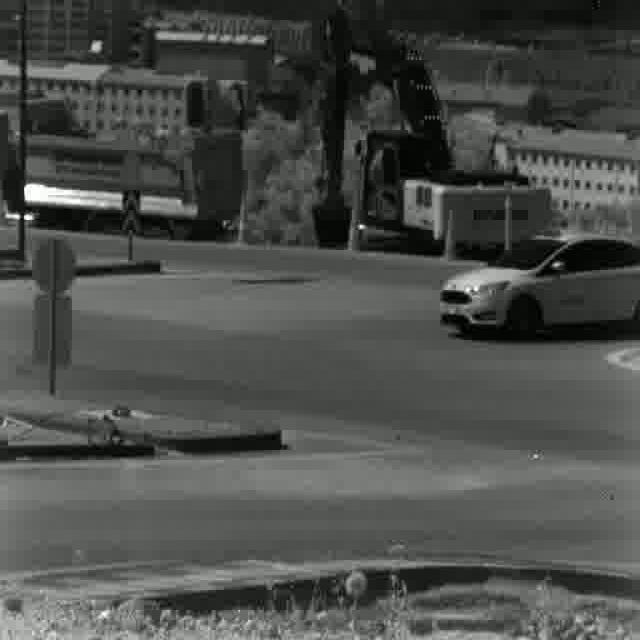Car: (438, 234, 640, 338)
